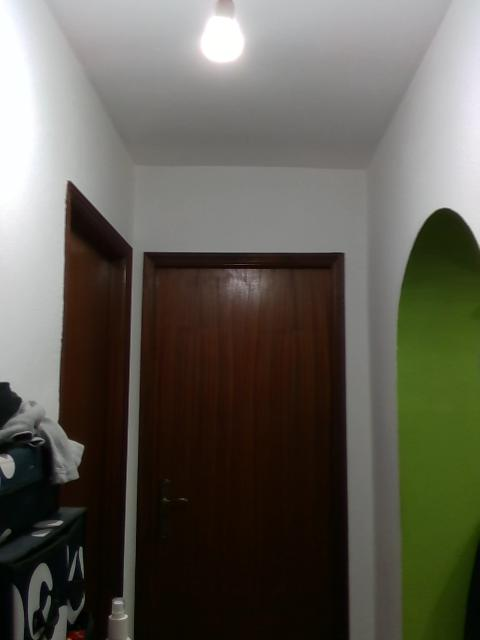door: (152, 271, 330, 640), (71, 214, 124, 640)
